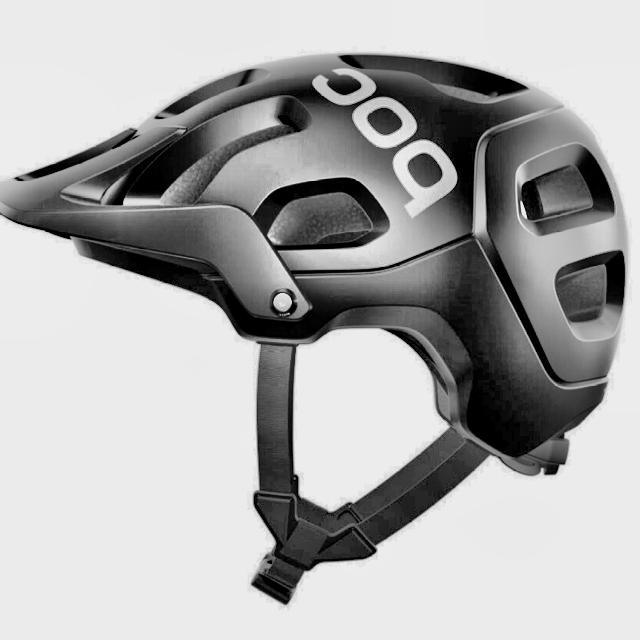Helmet: (0, 40, 633, 634)
